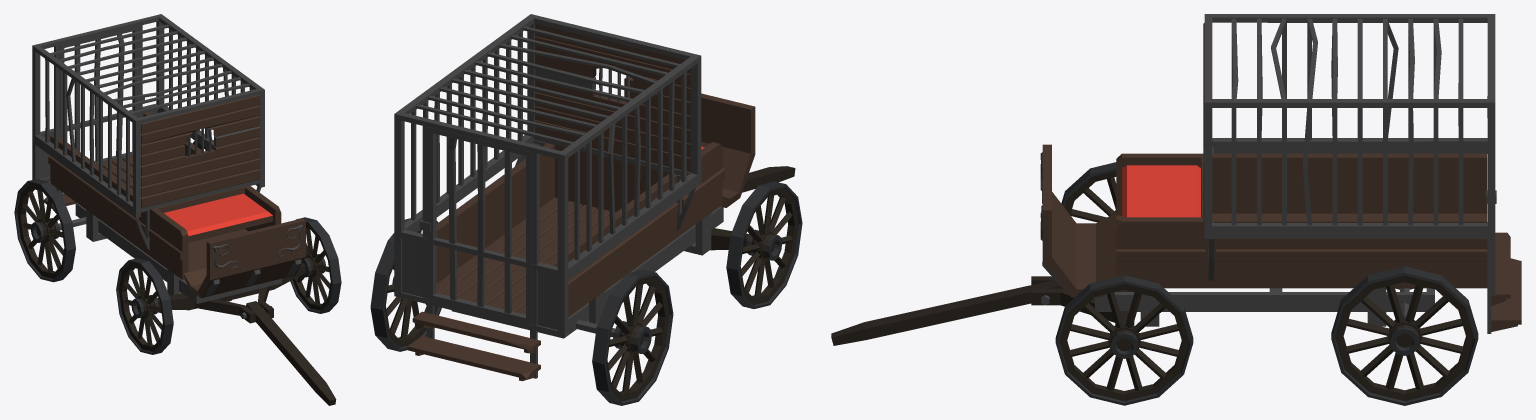
File: cart1.fbx
3 renders of one model, left to right at view 1: azimuth 30°, elevation 25°; view 2: azimuth 150°, elevation 25°; view 3: azimuth 270°, elevation 25°, orthographic. The views are drawn at different scales.
Parts seen in each view (by area): view 1: cart1, w4, w2, w1, door, f; view 2: cart1, door, w4, w2, w3, f; view 3: cart1, w3, w1, f, w2.
Part boxes in pixels (x1,y1,x2,y2): cart1: (32, 14, 305, 323); w4: (14, 179, 75, 282); w2: (116, 258, 173, 354); w1: (290, 217, 341, 313); door: (60, 26, 138, 164); f: (246, 301, 336, 405); cart1: (394, 14, 755, 381); door: (427, 127, 531, 324); w4: (592, 269, 673, 405); w2: (726, 181, 802, 308); w3: (370, 218, 441, 351); f: (742, 166, 795, 192); cart1: (1031, 14, 1521, 333); w3: (1331, 266, 1478, 405); w1: (1055, 275, 1193, 405); f: (831, 280, 1063, 345); w2: (1061, 162, 1116, 222).
Bounding box in the file's own units: 221 × 232 × 505.
